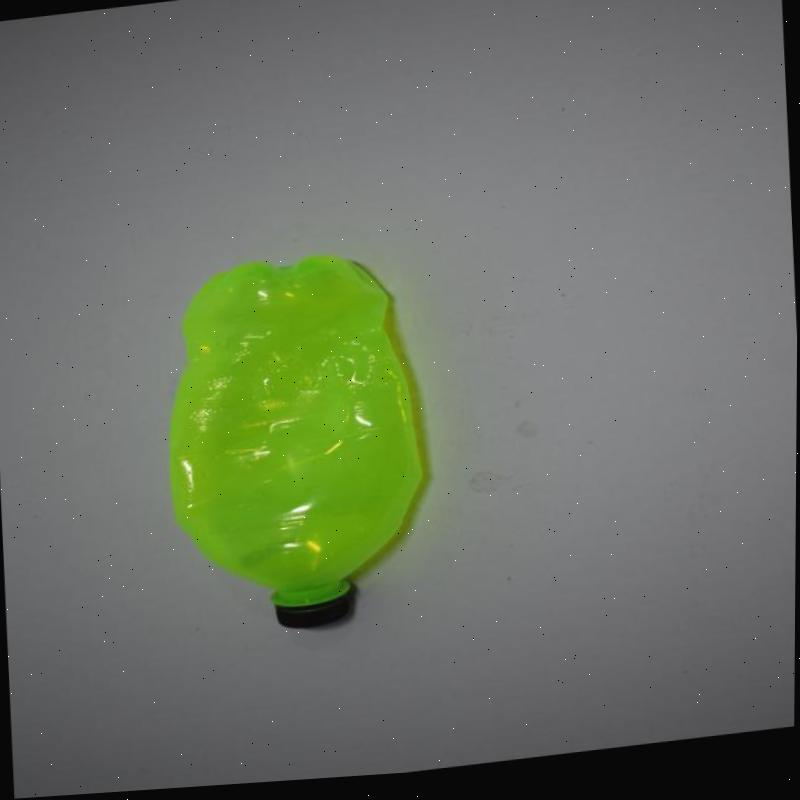botella: (152, 247, 439, 650)
